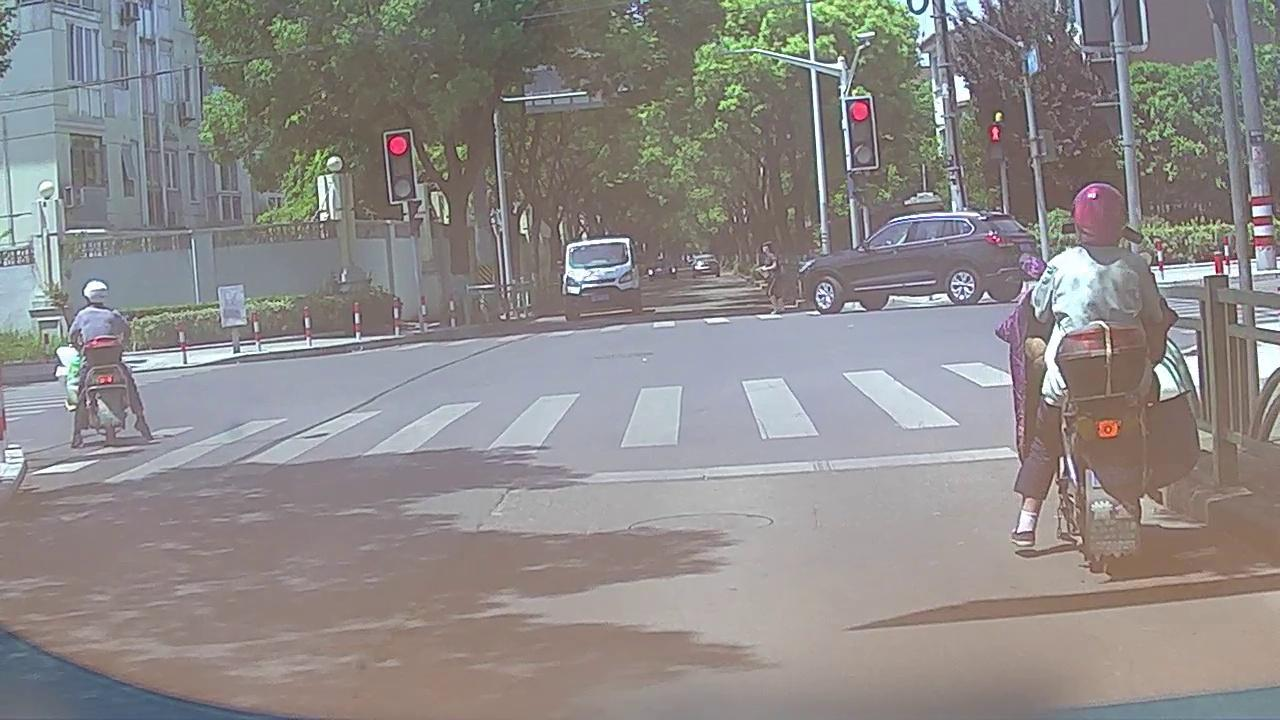traffic_light: (846, 100, 876, 168), (384, 134, 415, 199)
